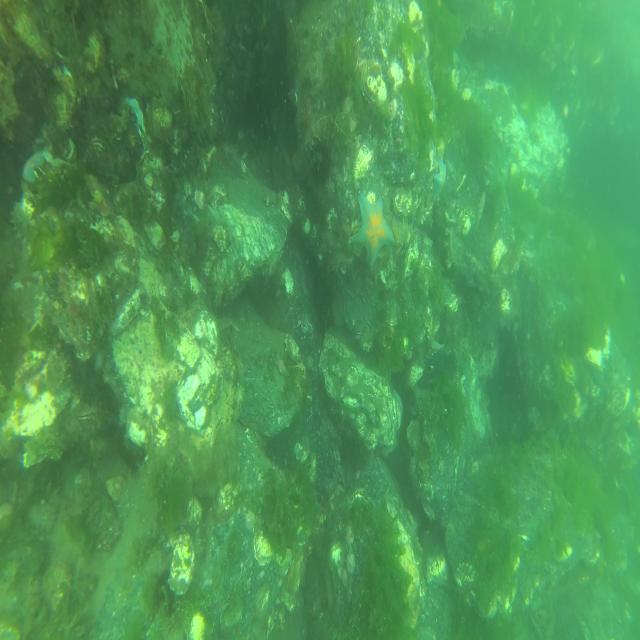holothurian: (8, 198, 40, 247)
starfish: (350, 190, 395, 271), (122, 95, 149, 140), (22, 151, 46, 183), (433, 155, 447, 203)
